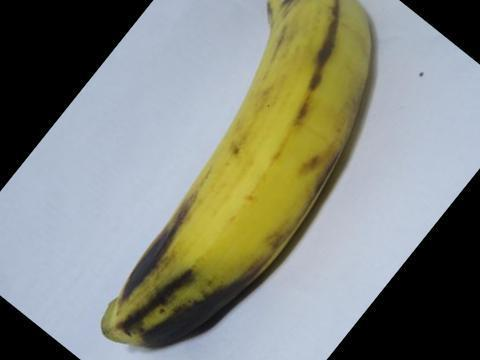ripe: (80, 0, 384, 359)
